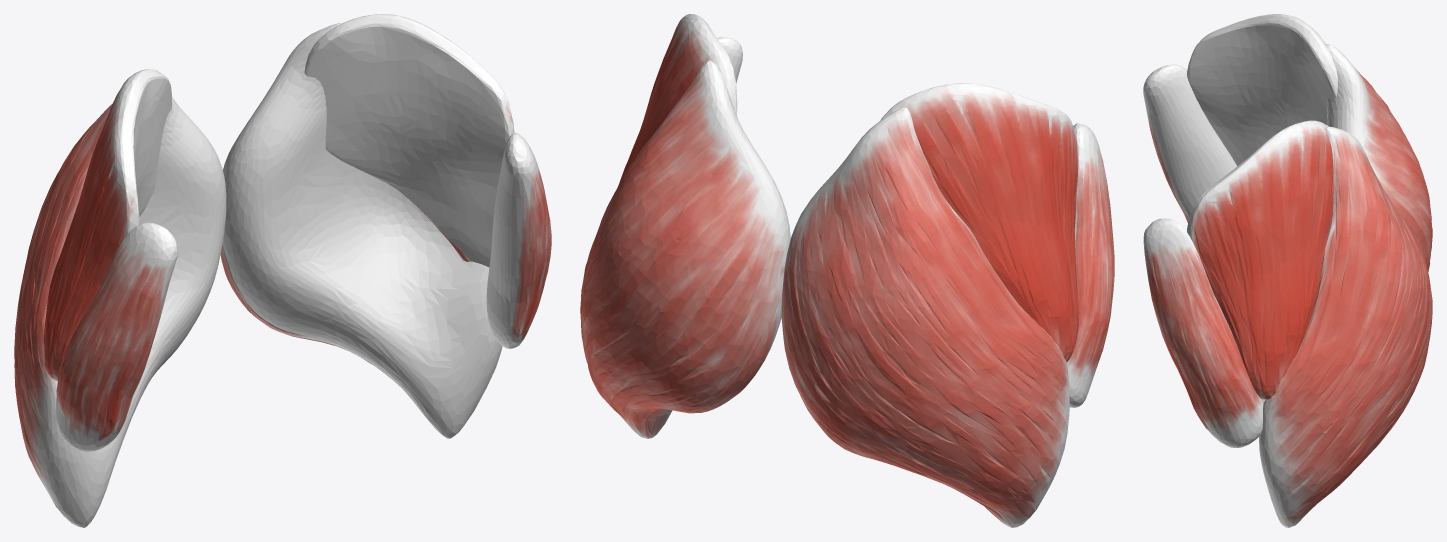
Rendered from SubTool-10-10844080.OBJ.
3 renders of one model, left to right at view 1: azimuth 30°, elevation 25°; view 2: azimuth 150°, elevation 25°; view 3: azimuth 270°, elevation 25°, orthographic. The views are drawn at different scales.
Visible parts, largest first — view 1: Group11275; view 2: Group11275; view 3: Group11275.
Boxes of the visible parts, box(x1,y1,x2,y2) form: Group11275: box(14, 14, 551, 527); Group11275: box(580, 14, 1114, 527); Group11275: box(1143, 14, 1432, 527).
Size of the model in its own units: 12.85 by 11.2 by 7.77.
1 material, 1 textured.
